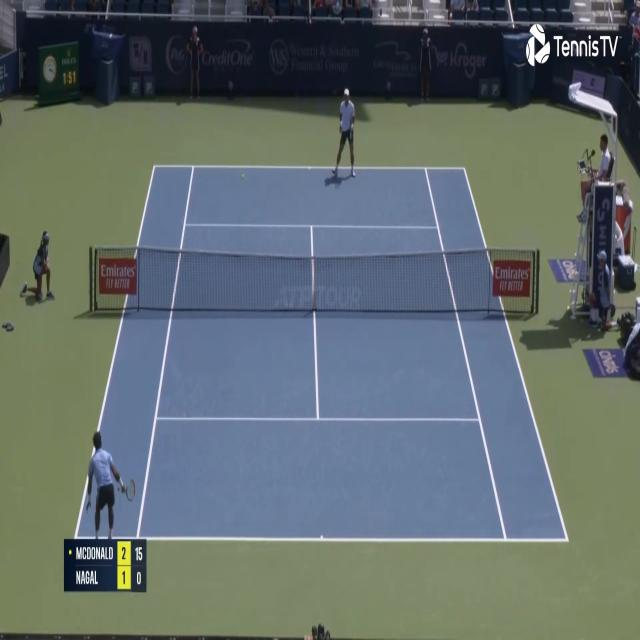tennis-player: (82, 427, 137, 544), (331, 86, 358, 182)
